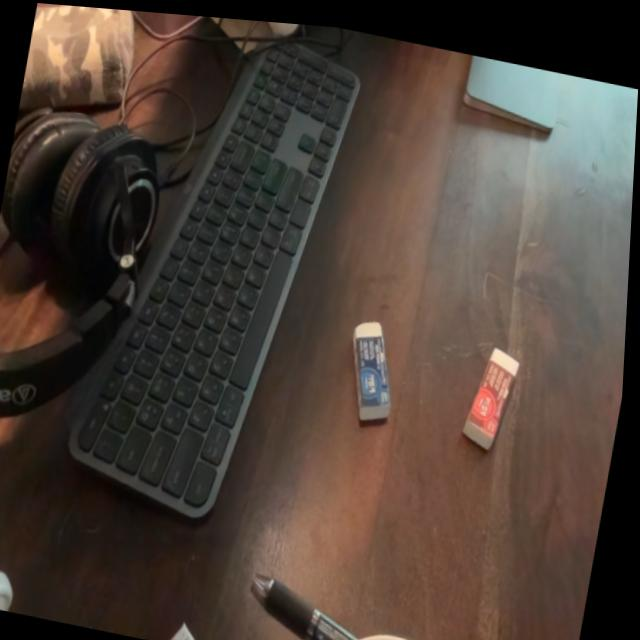blue: (338, 300, 417, 430)
red: (461, 320, 531, 456)
